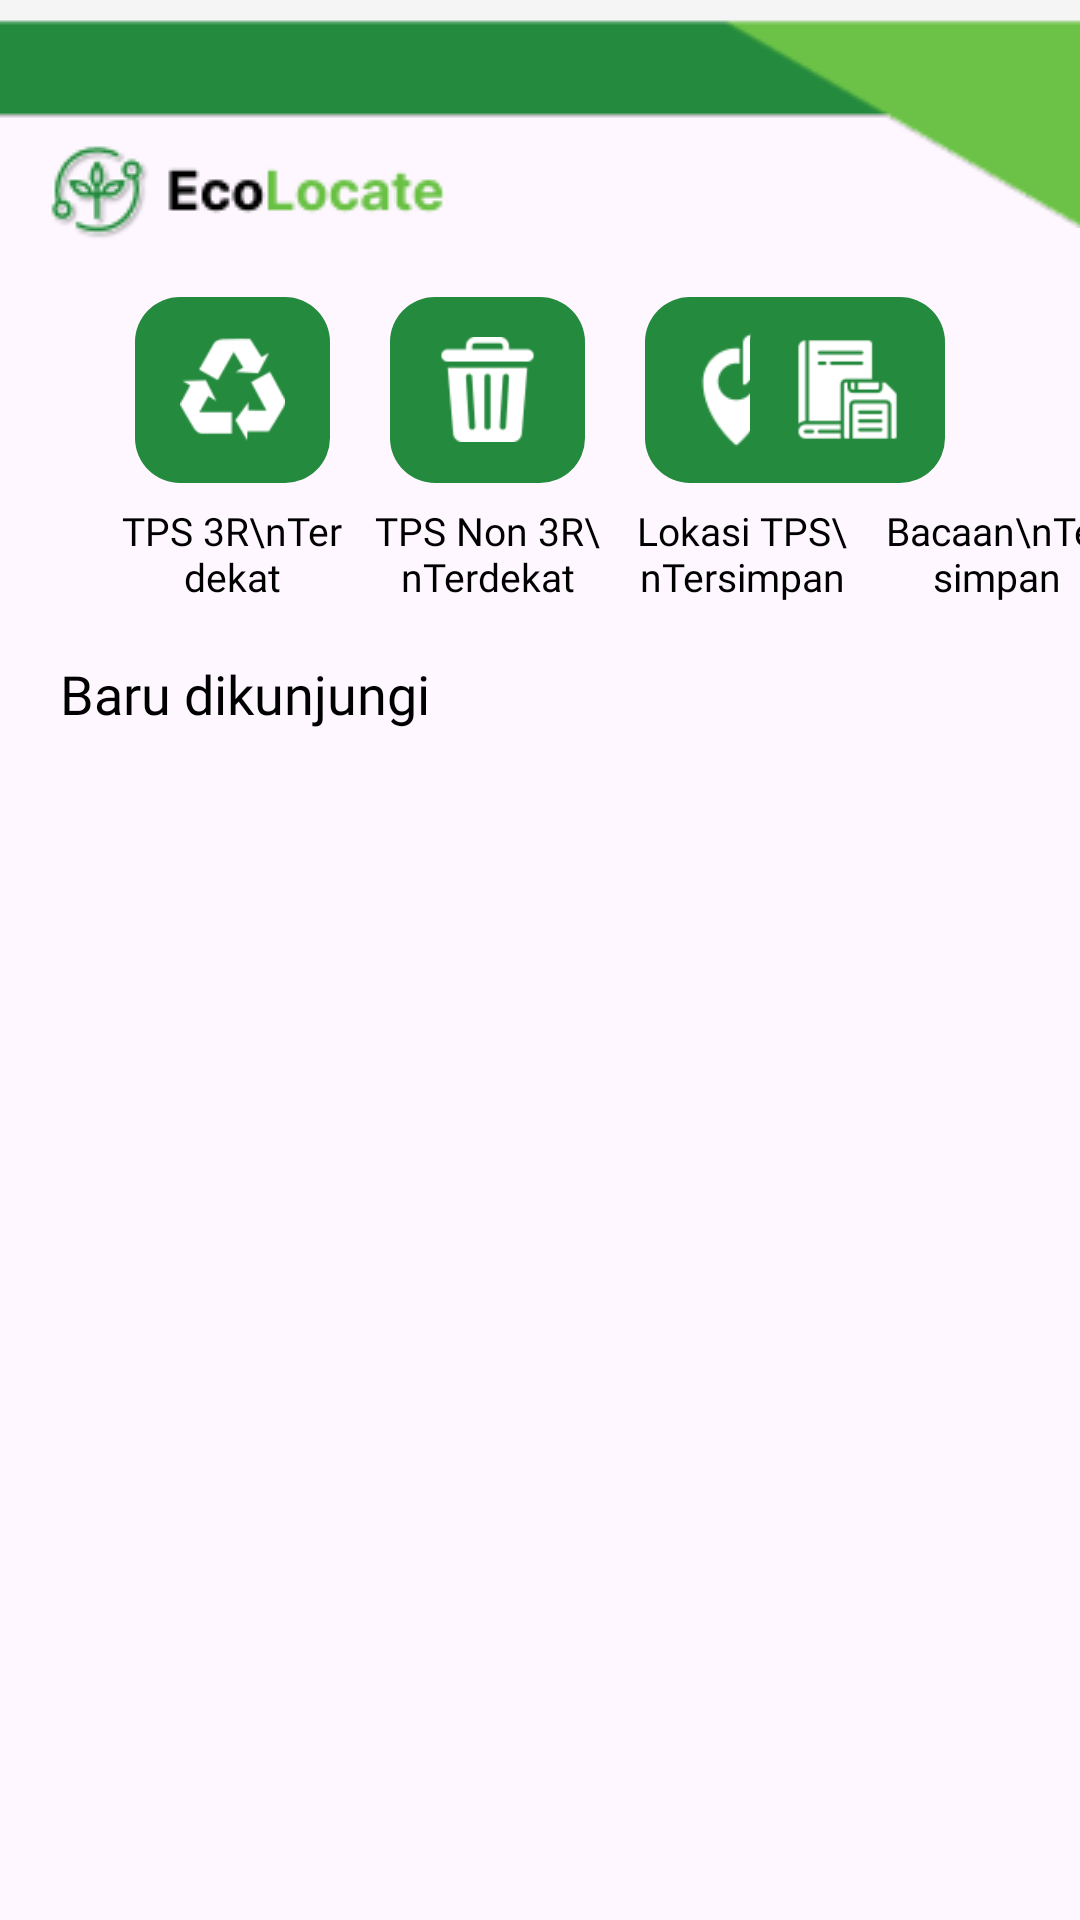

Named icons in this screenshot (1080w x 1920h) and their centers, (x,y):
non bin: (487,390)
recycle: (232,390)
saved post: (847,390)
